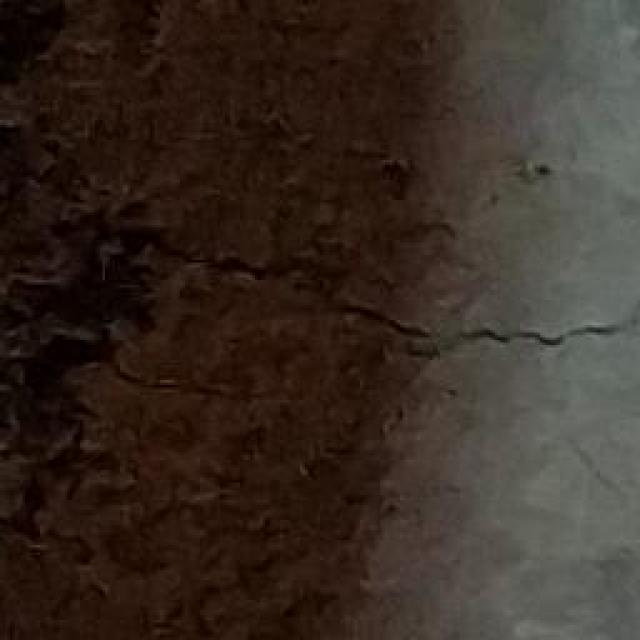Radial: (18, 210, 640, 448)
